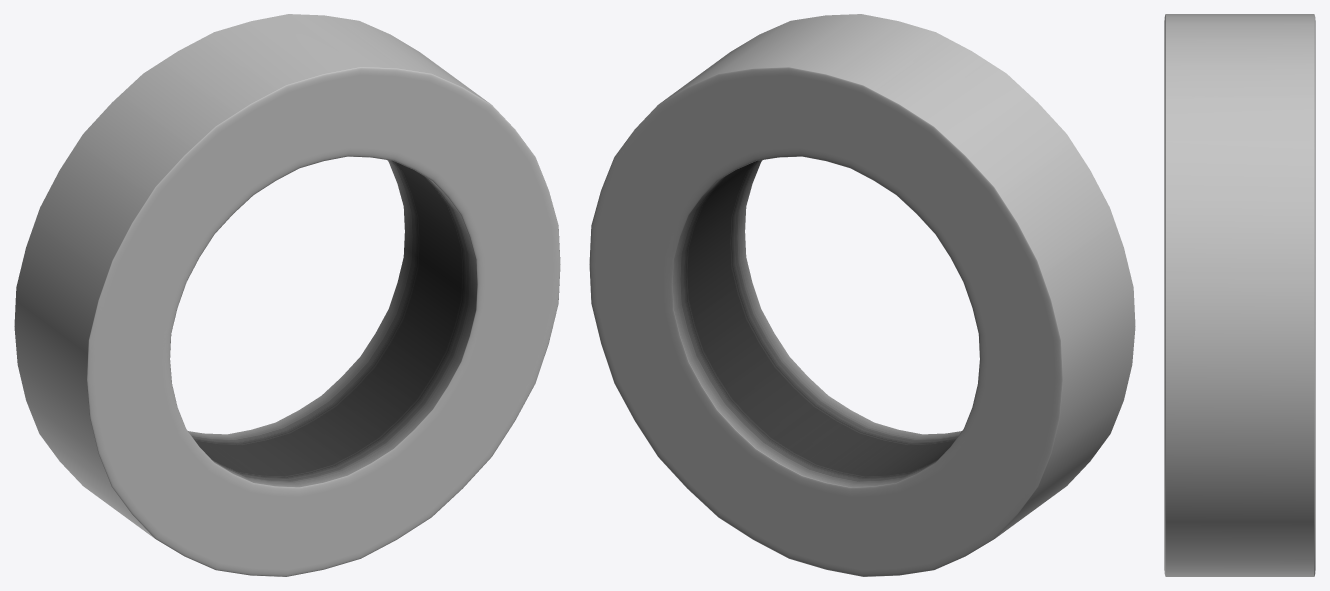
Rendered from white_roll.glb.
The picture shows the model from 3 angles, left to right: view 1: azimuth 30°, elevation 25°; view 2: azimuth 150°, elevation 25°; view 3: azimuth 270°, elevation 25°; orthographic projection. The views are drawn at different scales.
Parts seen in each view (by area): view 1: node_id44; view 2: node_id44; view 3: node_id44.
Part boxes in pixels (<box>): node_id44: <box>14,14,560,576</box>; node_id44: <box>589,14,1135,576</box>; node_id44: <box>1164,14,1315,576</box>.
Bounding box in the file's own units: 0.3201 × 0.3201 × 0.0863.
1 material, 1 textured.
